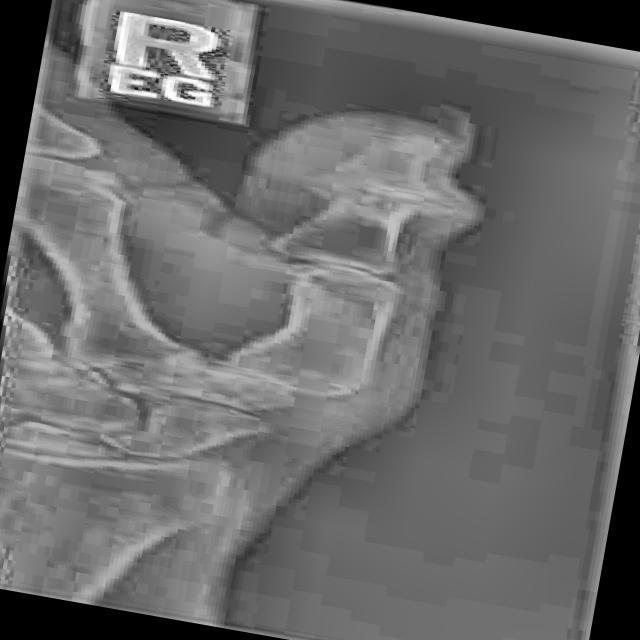fingers positive: (275, 151, 482, 243)
